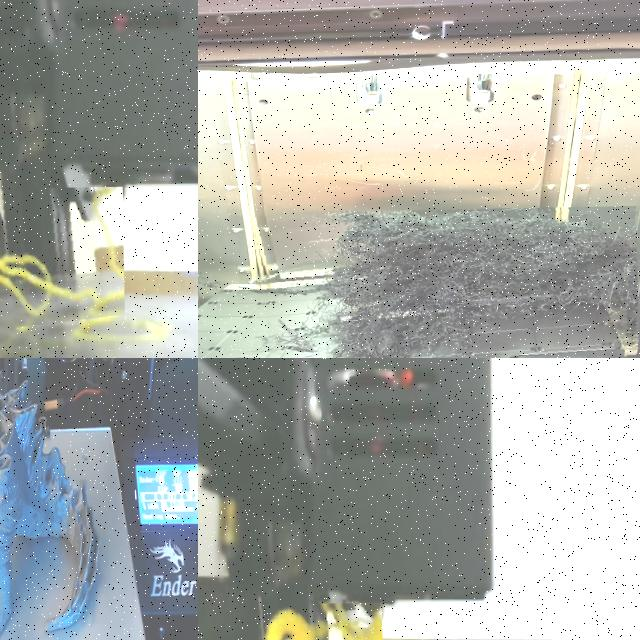spaghetti: (252, 206, 639, 358), (0, 219, 124, 321)
